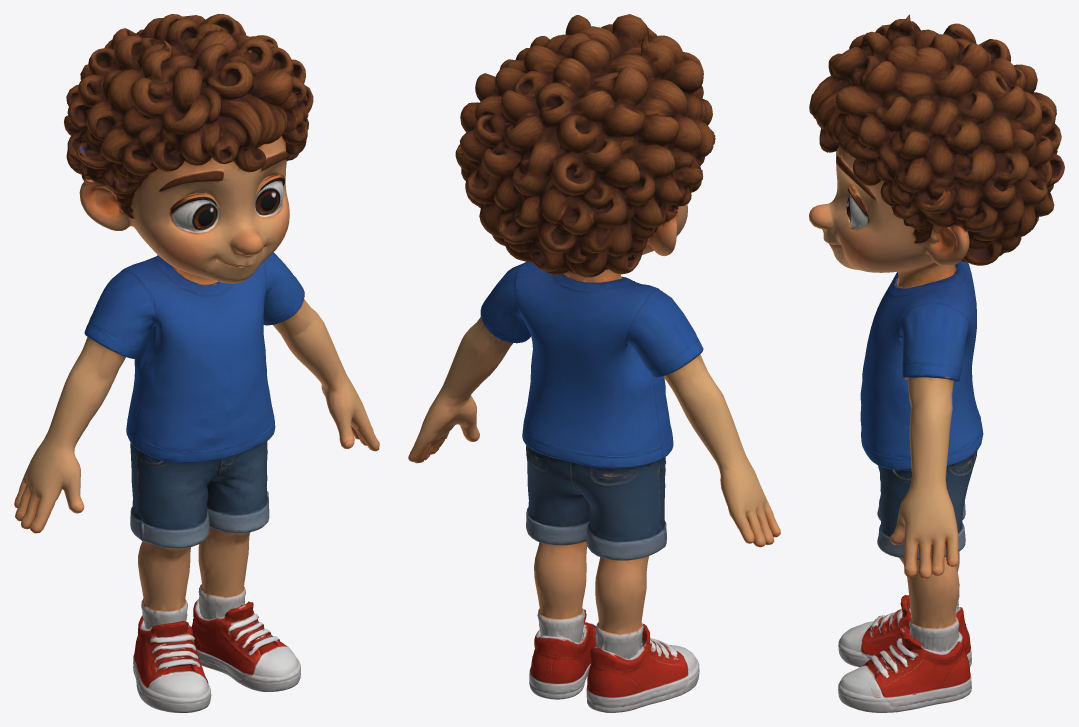
Rendered from avatar-tee-shorts.glb.
3 renders of one model, left to right at view 1: azimuth 30°, elevation 25°; view 2: azimuth 150°, elevation 25°; view 3: azimuth 270°, elevation 25°, orthographic. The views are drawn at different scales.
Visible parts, largest first — view 1: avatar-tee-shorts-mesh; view 2: avatar-tee-shorts-mesh; view 3: avatar-tee-shorts-mesh.
Boxes of the visible parts, box(x1,y1,x2,y2) form: avatar-tee-shorts-mesh: box(14, 14, 379, 712); avatar-tee-shorts-mesh: box(408, 14, 780, 712); avatar-tee-shorts-mesh: box(809, 14, 1064, 712).
Bounding box in the file's own units: 0.8519 × 1.5 × 0.5408.
Materials: 1 (1 with a texture image).
